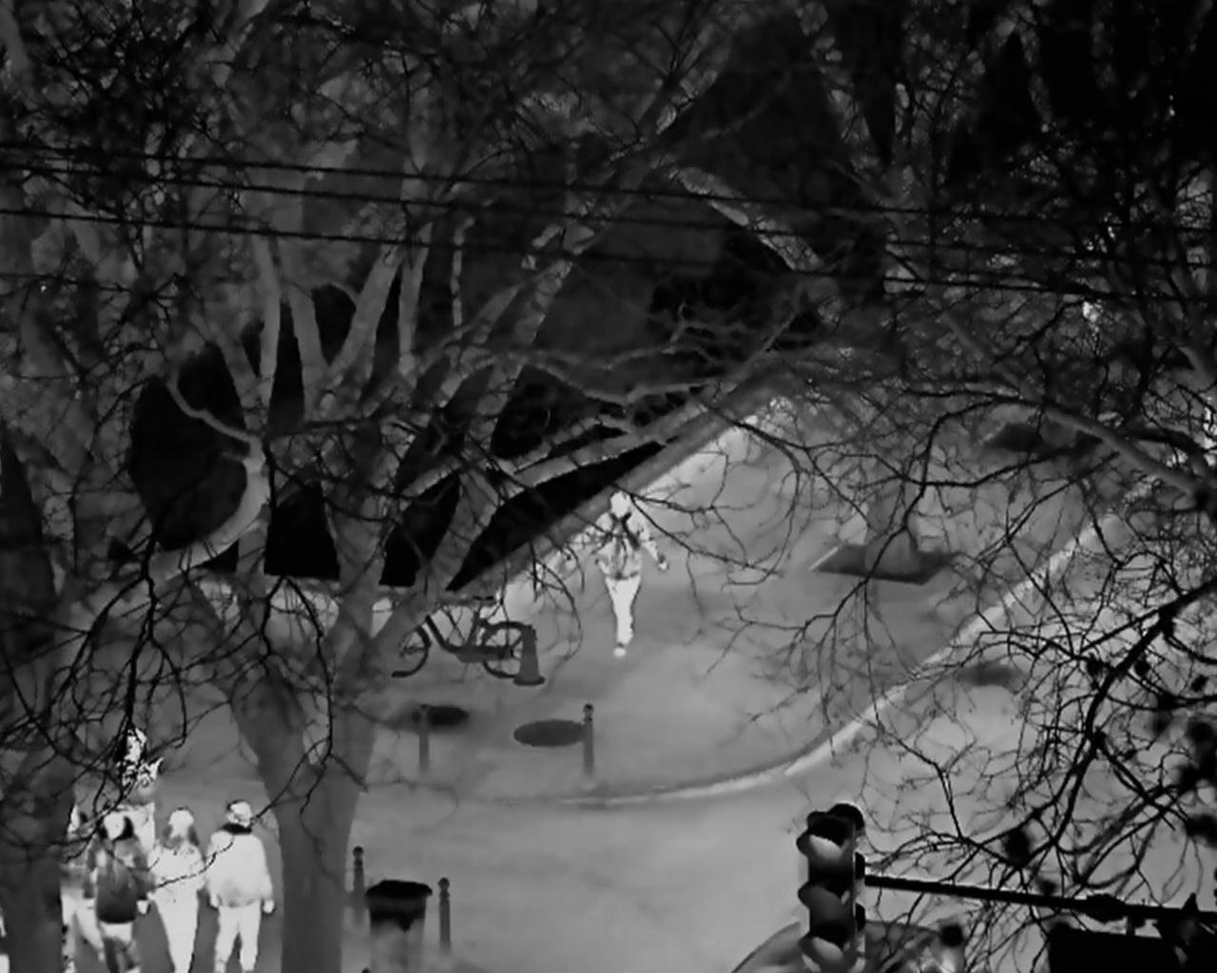person: (594, 489, 666, 659), (202, 799, 272, 973), (84, 806, 154, 969), (146, 809, 203, 973)
